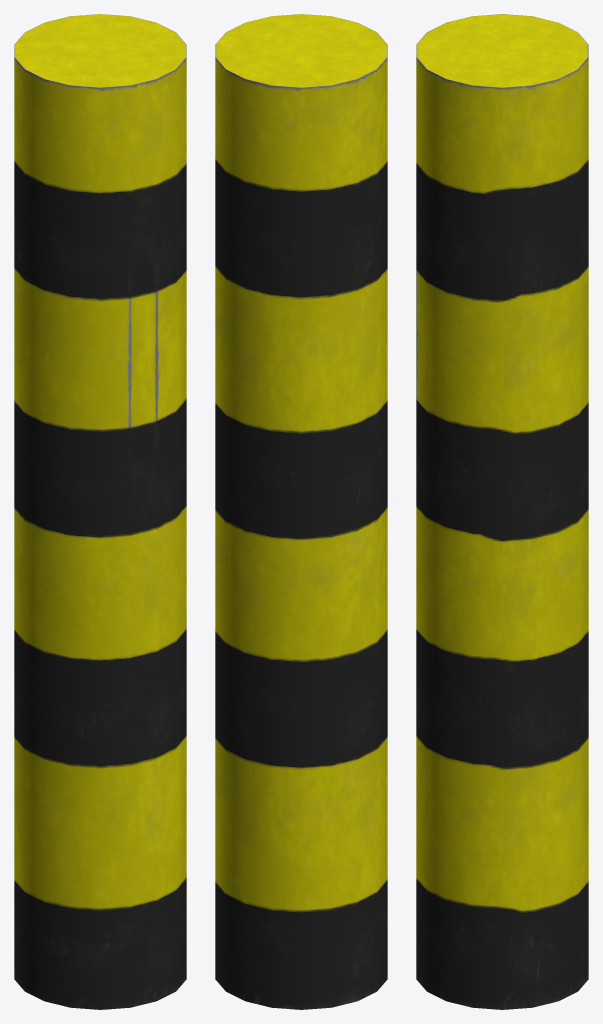
The model's file is tope.glb.
The picture shows the model from 3 angles, left to right: view 1: azimuth 30°, elevation 25°; view 2: azimuth 150°, elevation 25°; view 3: azimuth 270°, elevation 25°; orthographic projection.
Parts seen in each view (by area): view 1: bollard_lp; view 2: bollard_lp; view 3: bollard_lp.
Boxes of the visible parts, bbox=[...] form: bollard_lp: bbox=[14, 14, 186, 1009]; bollard_lp: bbox=[215, 14, 387, 1009]; bollard_lp: bbox=[416, 14, 588, 1009].
Size of the model in its own units: 0.1242 by 0.7233 by 0.1223.
Materials: 1 (1 with a texture image).
